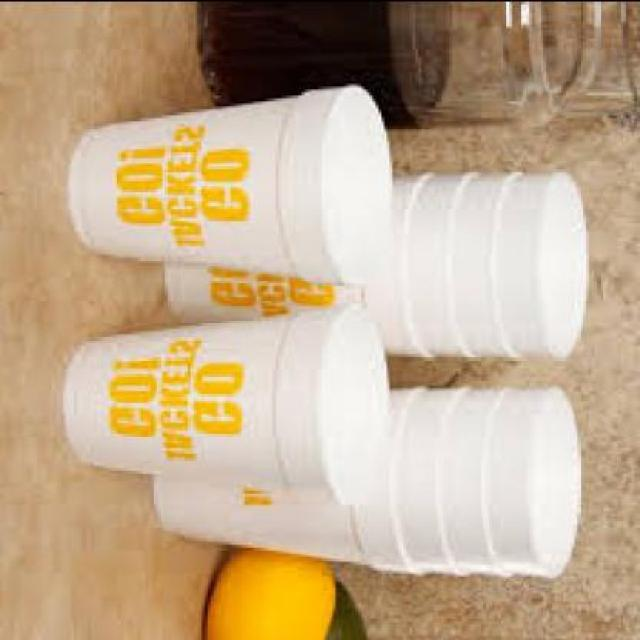BIODEGRADABLE: (196, 3, 455, 131), (199, 551, 343, 638), (326, 583, 371, 639)
GLASS: (199, 3, 639, 134)
PAPER: (168, 168, 592, 362), (157, 390, 586, 578), (69, 82, 398, 290), (67, 307, 396, 510)
